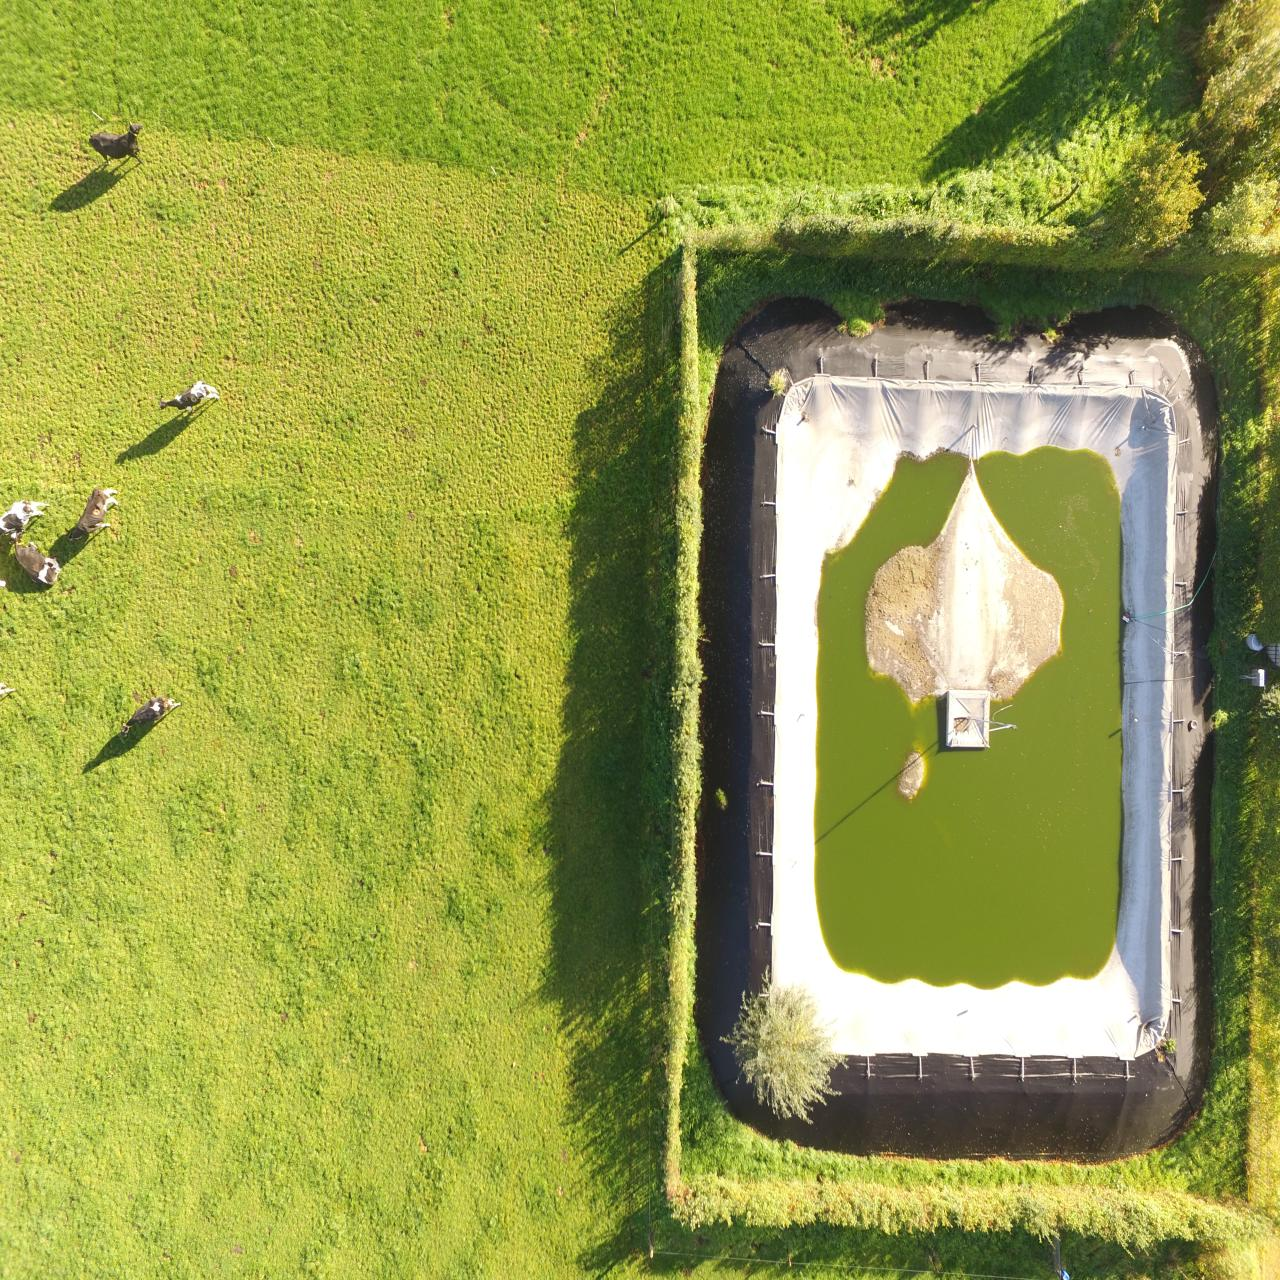cow: (117, 692, 185, 736), (66, 486, 118, 543), (13, 540, 63, 585), (157, 377, 220, 413), (89, 122, 143, 163)
